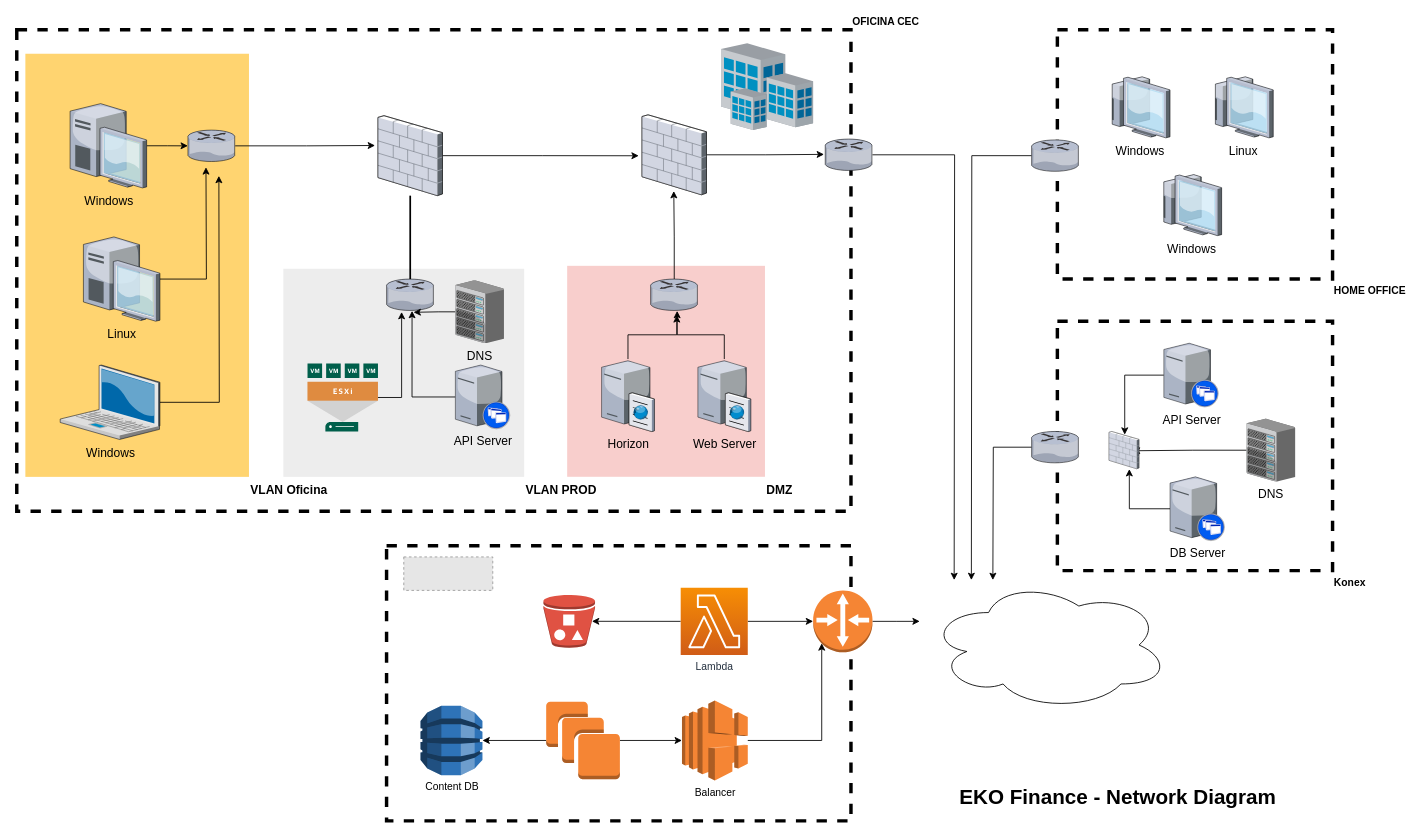
The diagram is 1420 pixels wide and 837 high, and some of its shapes have lost their labels. Grey dashed boxes stand in for pictures. The shapes that lost their labels are listed below. From the top down, each one's centre as x and y in pixels, then its label:
At point 342,397: "Vmware Esxi".
At point 569,621: "Buckets".
At point 582,740: "Windows / Linux Instances".
